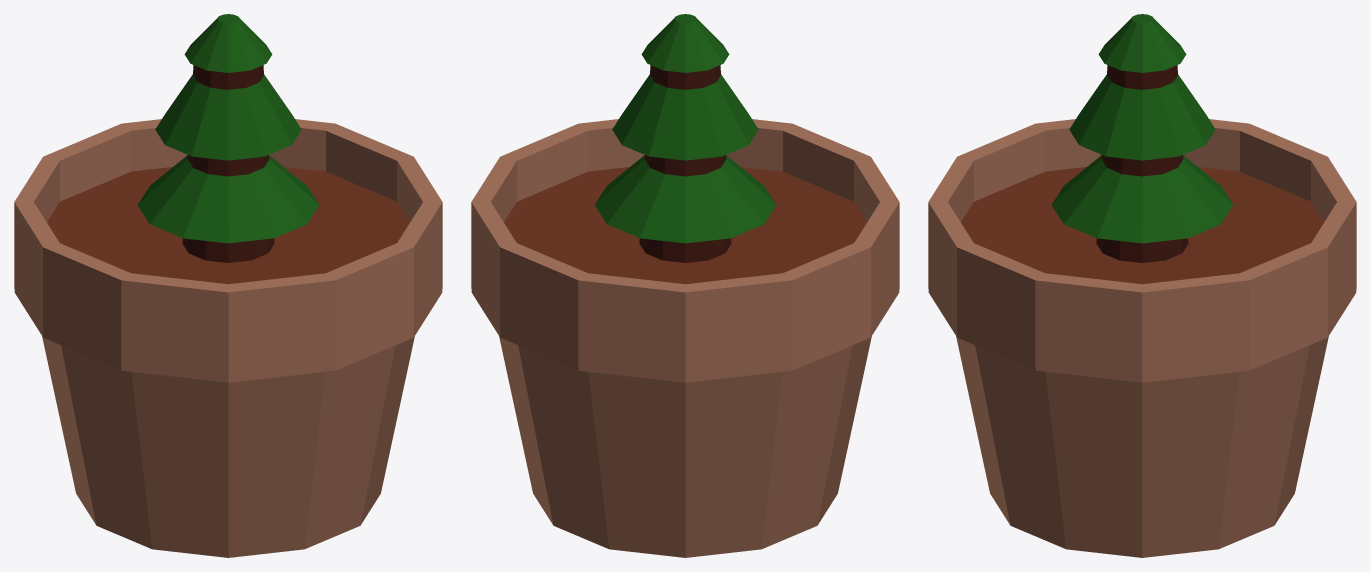
File: pflanze.fbx
3 renders of one model, left to right at view 1: azimuth 30°, elevation 25°; view 2: azimuth 150°, elevation 25°; view 3: azimuth 270°, elevation 25°, orthographic.
Visible parts, largest first — view 1: Cylinder.001; view 2: Cylinder.001; view 3: Cylinder.001.
Part boxes in pixels (x1,y1,x2,y2): Cylinder.001: [14, 14, 442, 557]; Cylinder.001: [471, 14, 899, 557]; Cylinder.001: [928, 14, 1356, 557].
Bounding box in the file's own units: 36.96 × 45.22 × 36.96.
